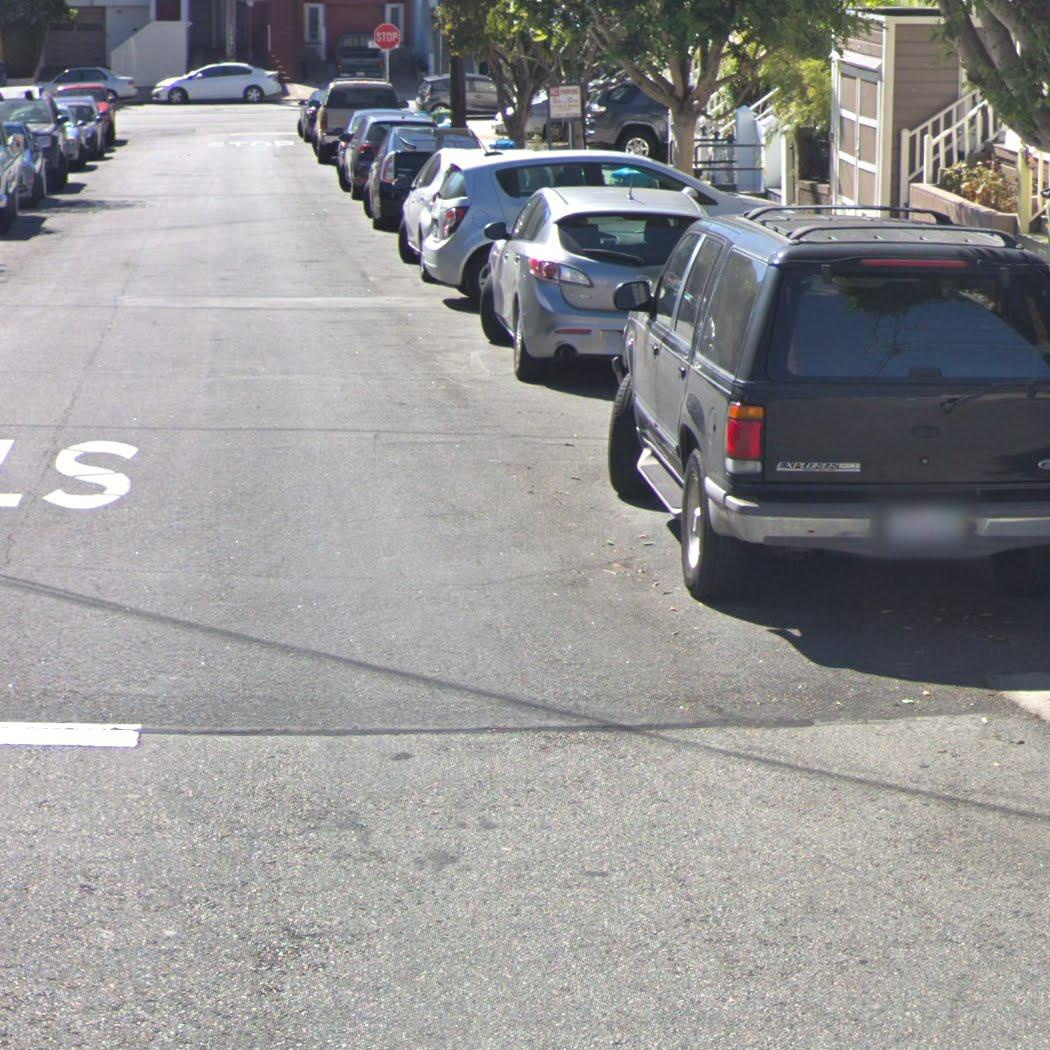No Parking: (548, 85, 583, 119)
